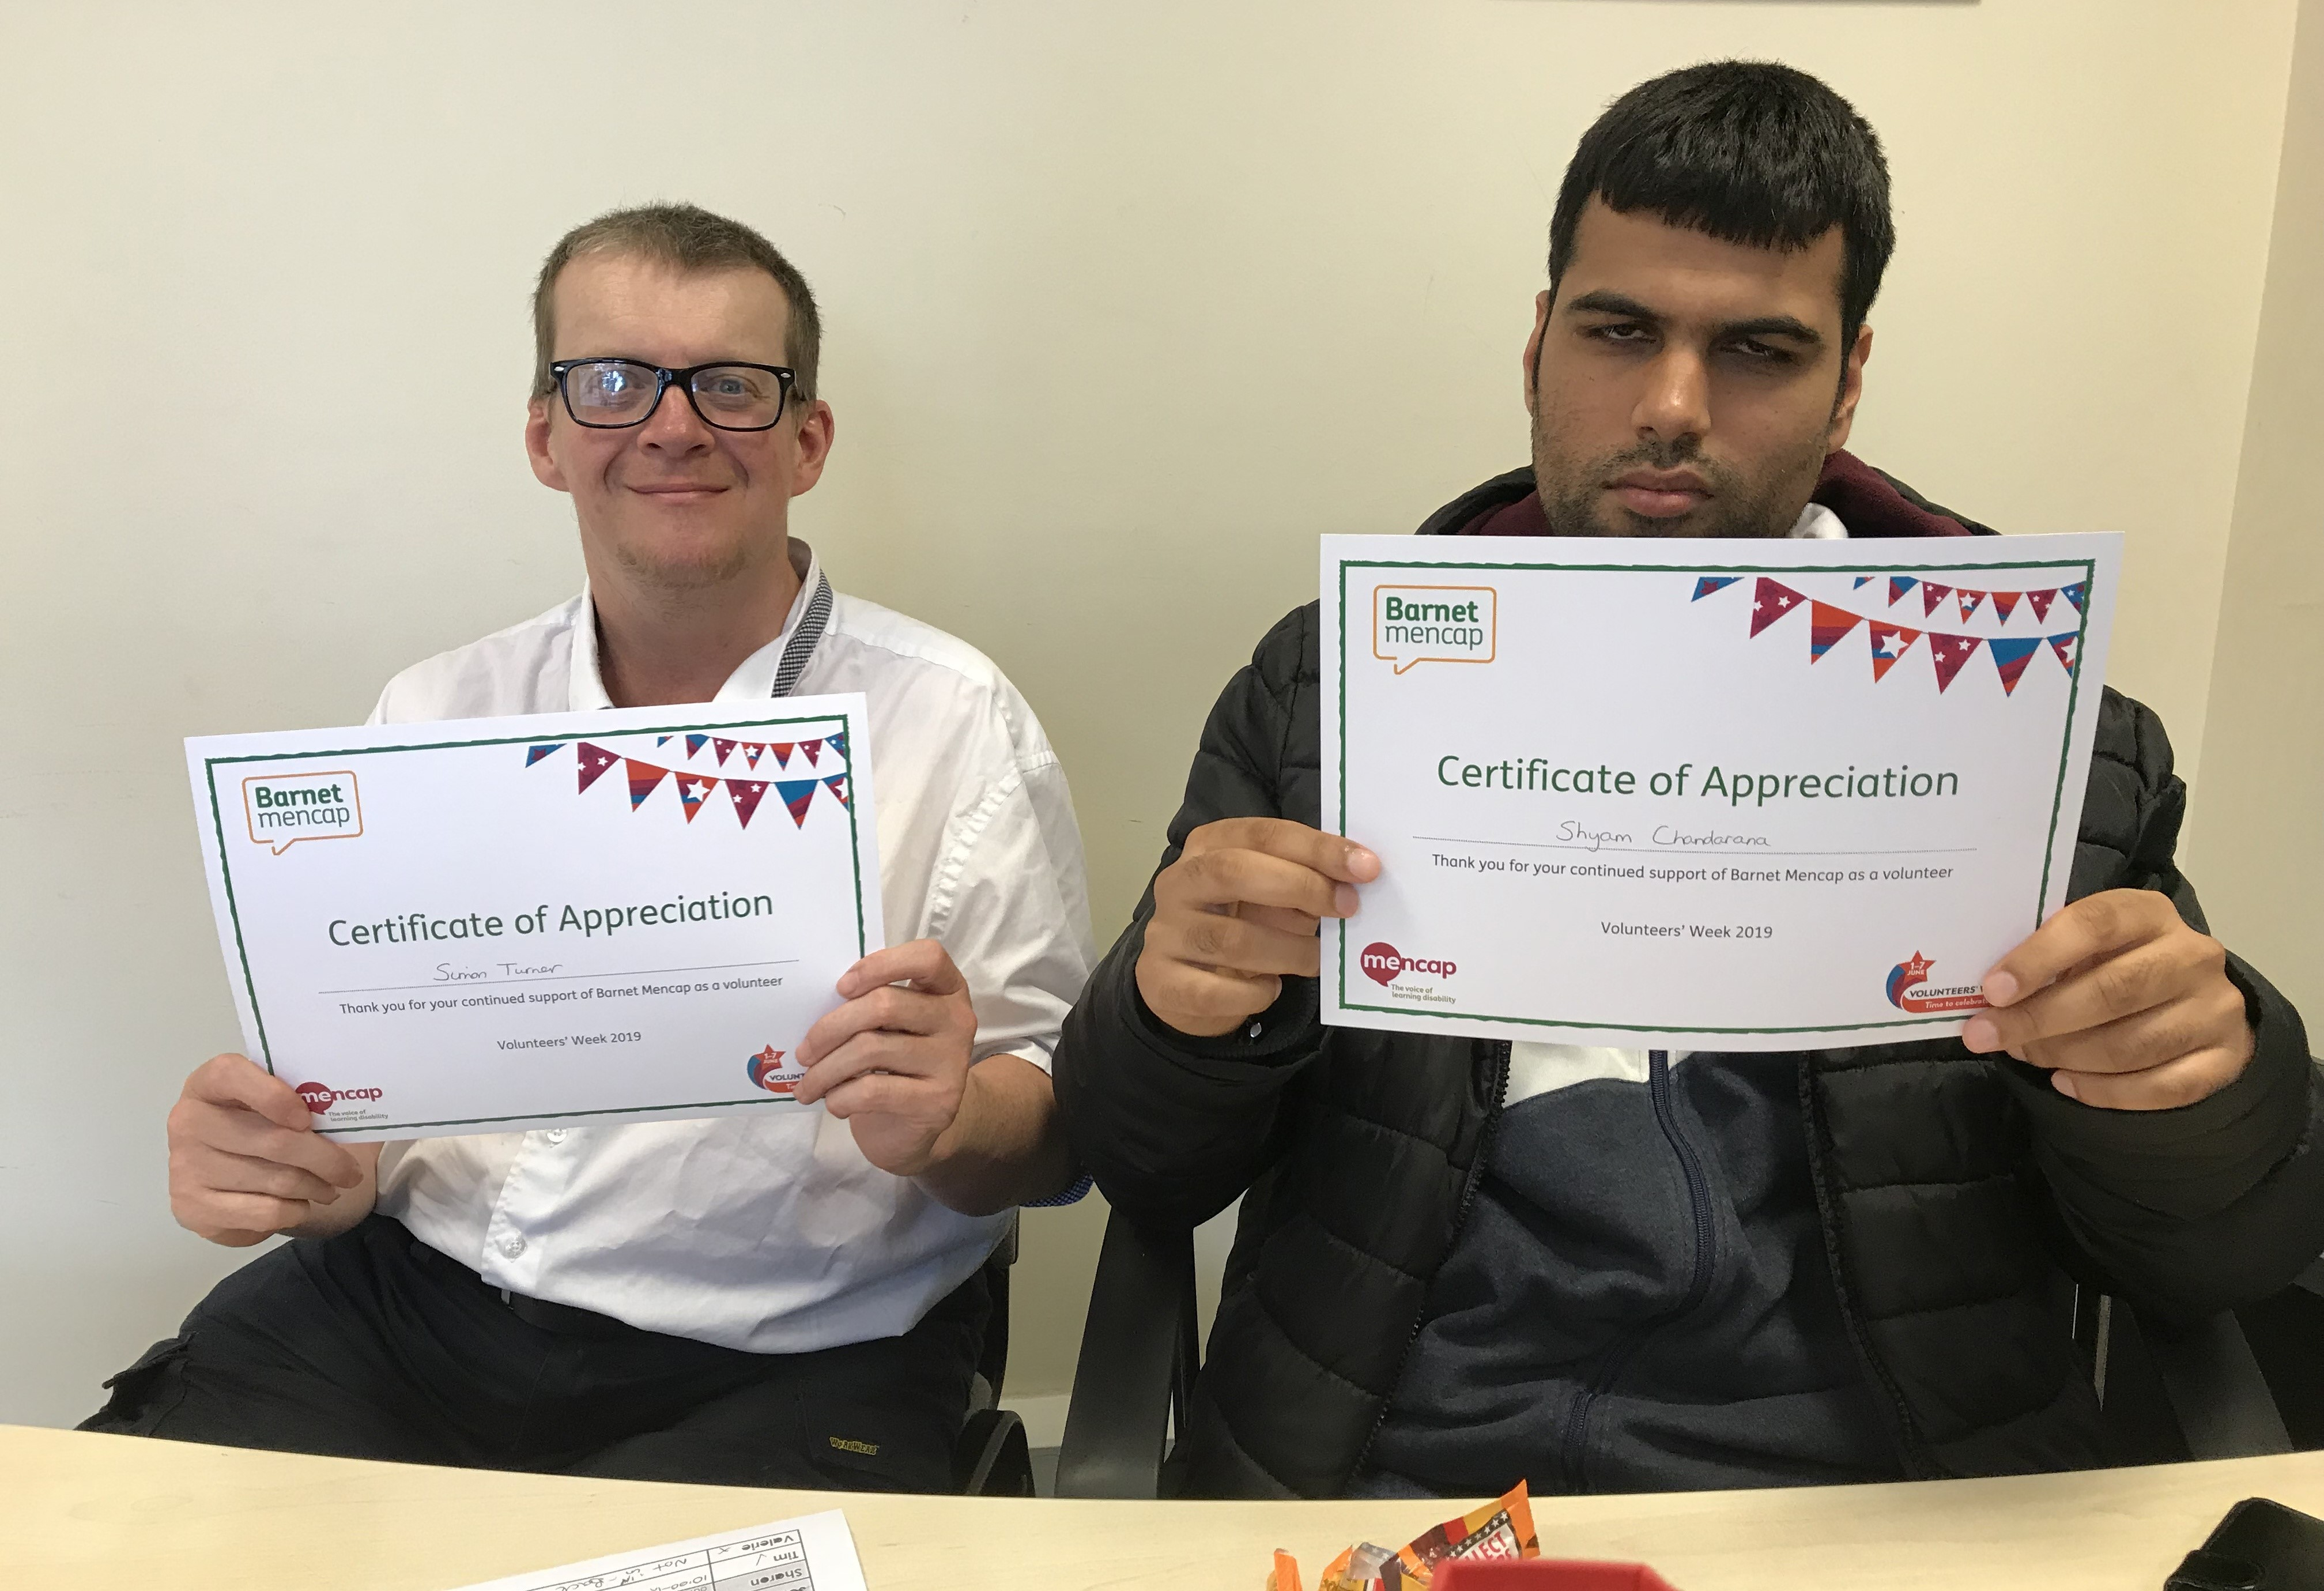face_no_mask: (1525, 67, 1891, 533), (530, 203, 817, 604)
